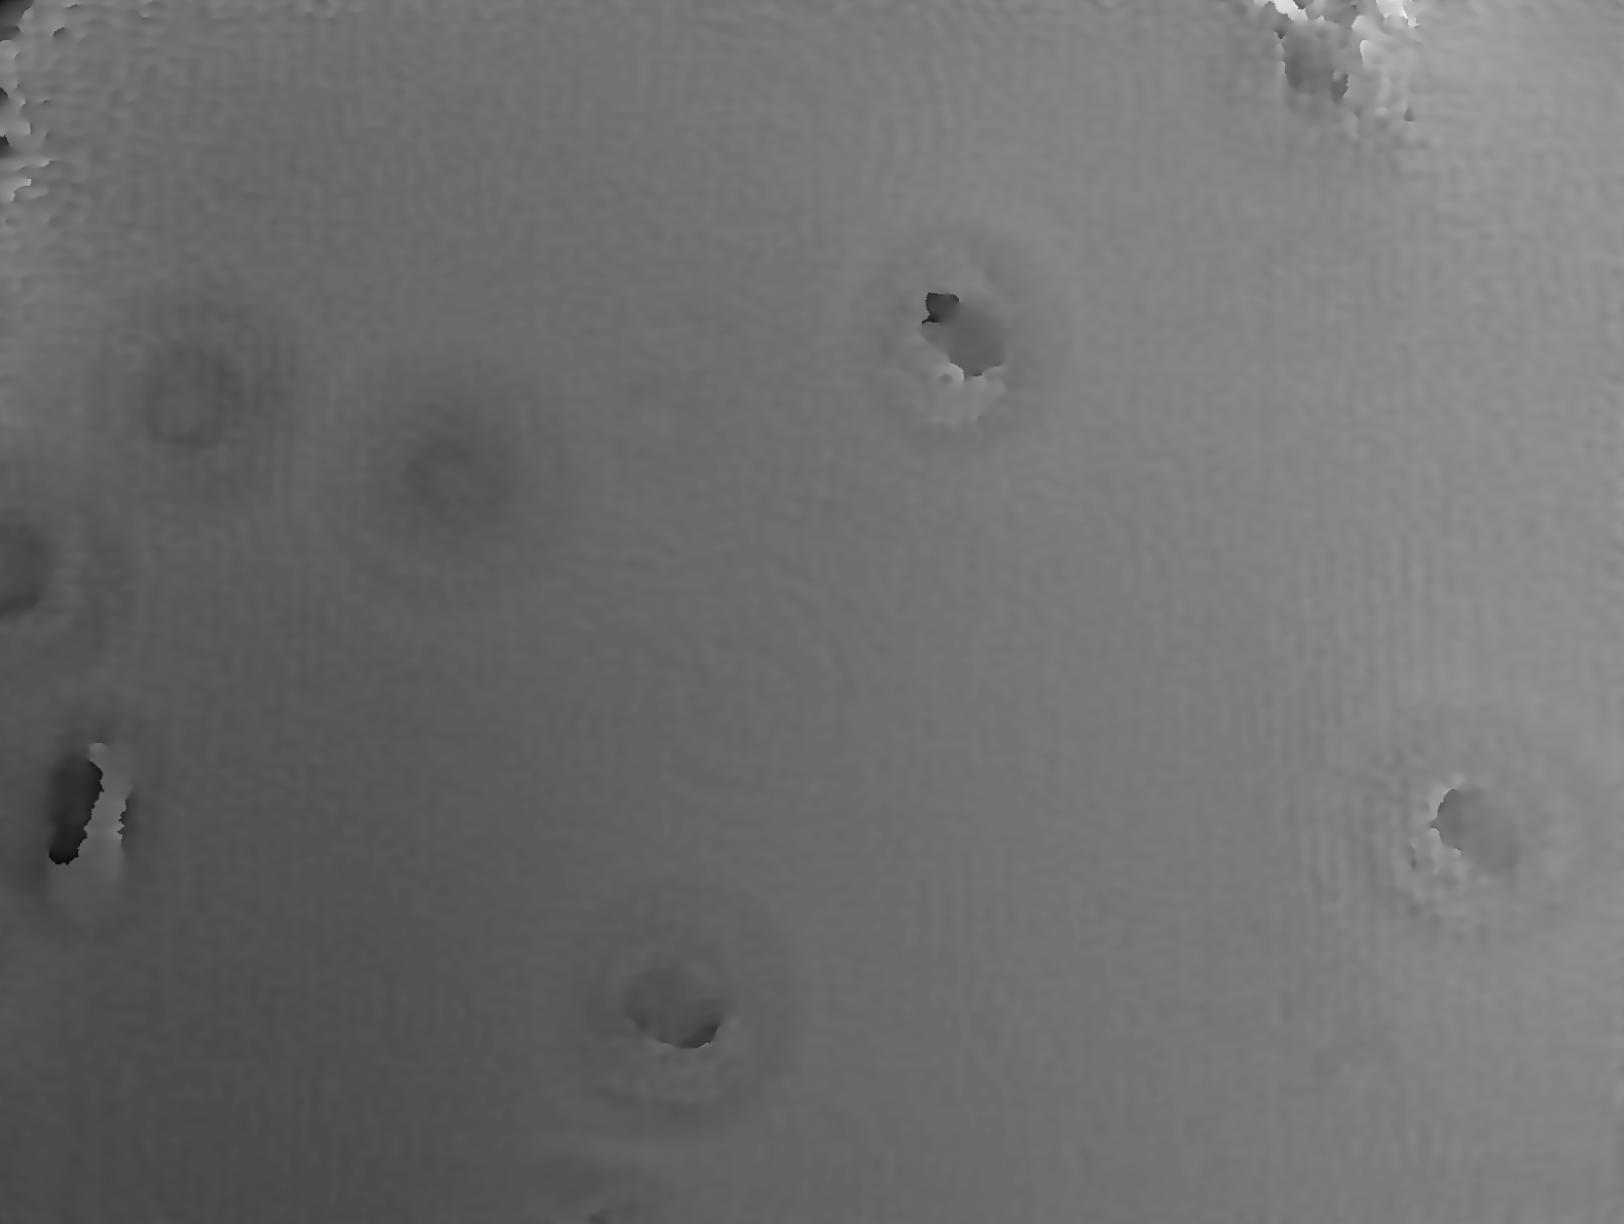cell: (291, 321, 594, 634), (530, 861, 824, 1155), (59, 262, 334, 554), (1349, 685, 1624, 973), (829, 216, 1094, 480)
